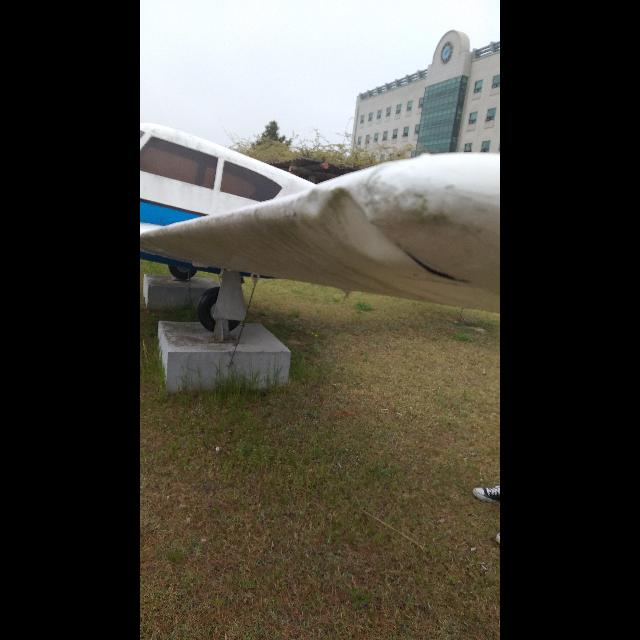dent: (324, 185, 404, 265), (307, 190, 327, 216)
